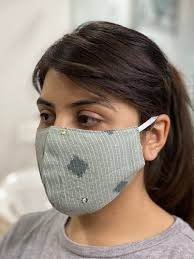with-mask: (22, 19, 180, 226)
